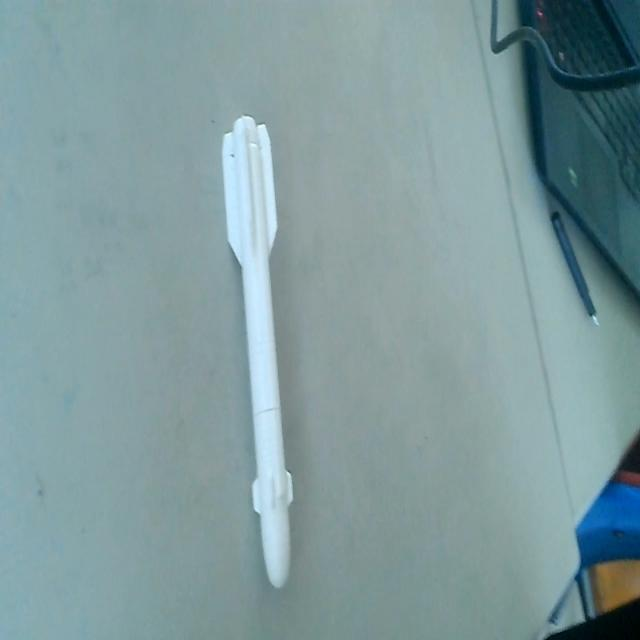Rocket: (218, 114, 299, 594)
